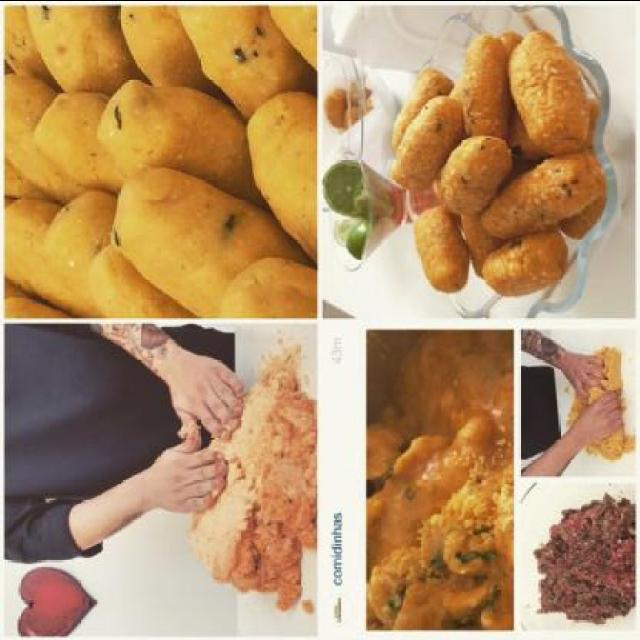Potato: (0, 2, 322, 320), (390, 25, 608, 297), (246, 90, 318, 268)
